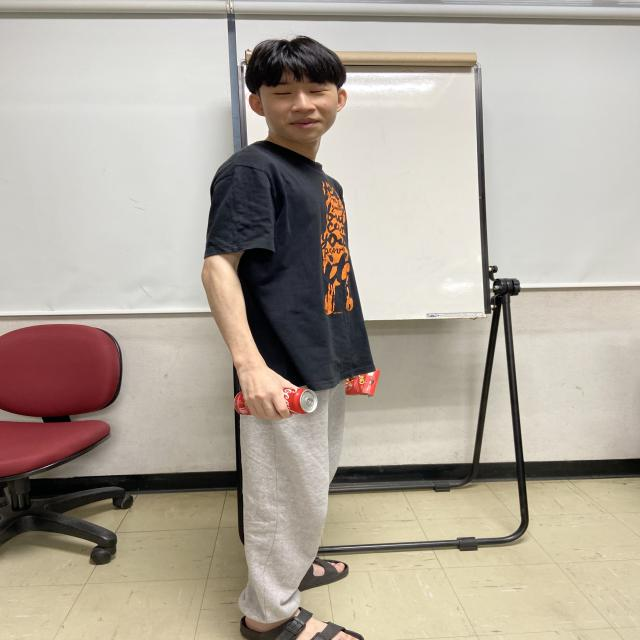can: (232, 387, 319, 417)
